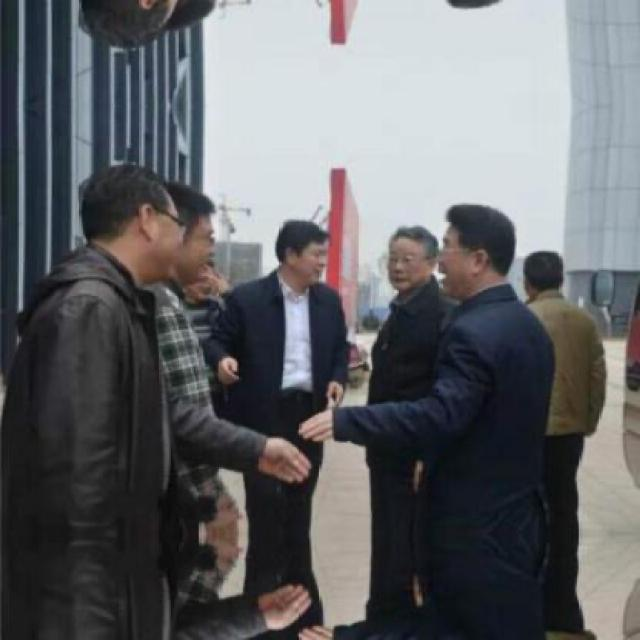sin casco: (29, 144, 178, 327), (424, 205, 523, 304), (249, 227, 344, 306), (374, 220, 429, 301), (176, 177, 215, 288)
